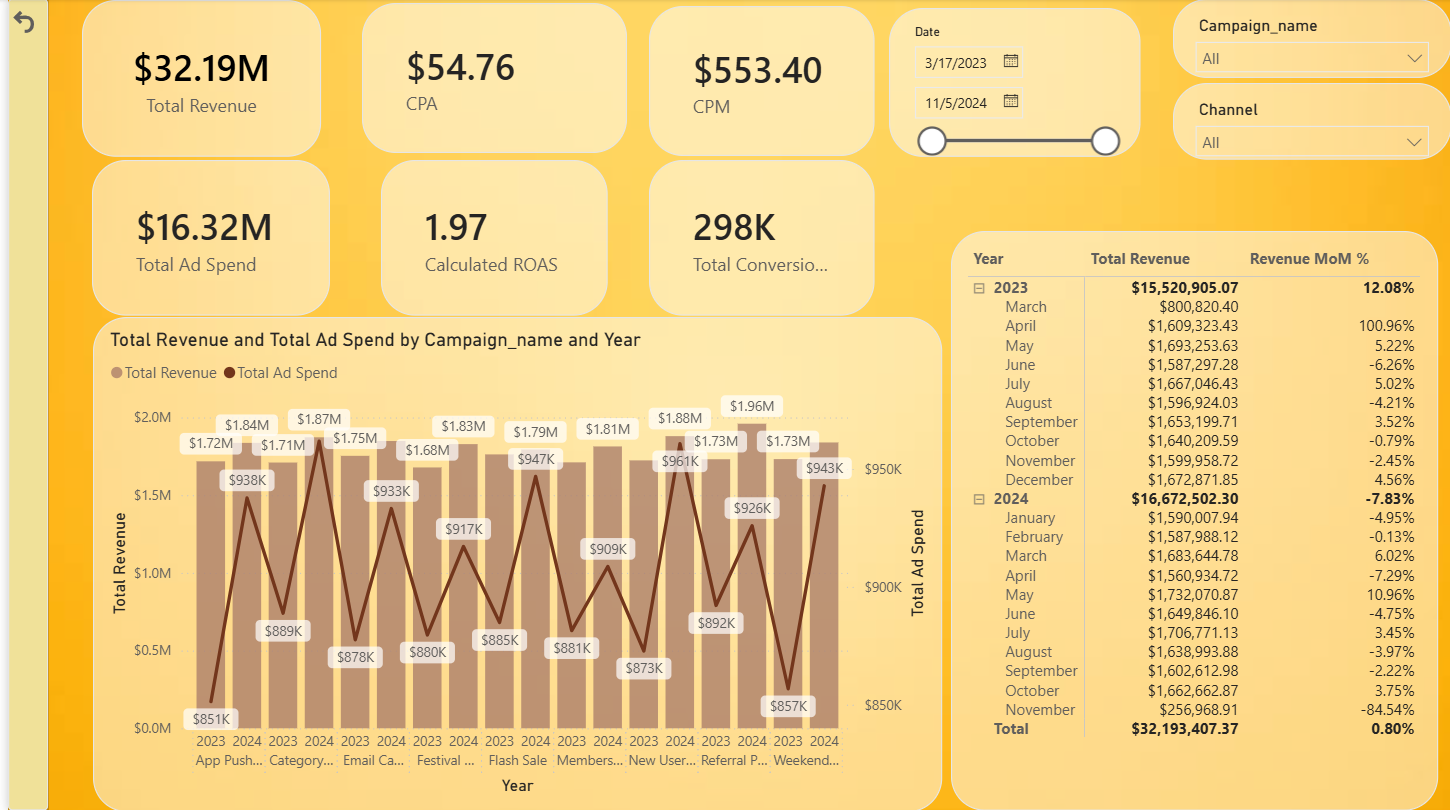

Layout of this report page (visuals, bound fields, positions):
{"tool":"powerbi","page":{"name":"Executive Summary","canvas":[1280,720],"ordinal":0},"visuals":[{"type":"cardVisual","fields":{"Data":["Measure Table.Total Revenue"]},"box":[65.4,0.9,212.1,139.2],"z":0},{"type":"cardVisual","fields":{"Data":["Measure Table.Cost Per Acquisation"]},"box":[313.9,3.7,234.5,132.7],"z":1000},{"type":"cardVisual","fields":{"Data":["Measure Table.CPM"]},"box":[568.1,6.5,199.9,132.7],"z":2000},{"type":"slicer","fields":{"Values":["Fact_marketing_performance.Campaign_name"]},"box":[1032.9,0,247.1,70],"z":3000},{"type":"slicer","fields":{"Values":["Fact_marketing_performance.Channel"]},"box":[1033.3,74.7,246.7,68.2],"z":4000},{"type":"slicer","fields":{"Values":["Dim Calender.Date"]},"box":[781.1,8.4,223.3,131.7],"z":5000},{"type":"shape","box":[0,0,35.6,719.5],"z":6000},{"type":"actionButton","box":[0,0,28.4,39.9],"z":7000},{"type":"cardVisual","fields":{"Data":["Measure Table.Total Ad Spend"]},"box":[74.7,142.9,211.2,138.3],"z":8000},{"type":"cardVisual","fields":{"Data":["Measure Table.Calculated ROAS"]},"box":[330.7,142.9,200.9,138.3],"z":9000},{"type":"cardVisual","fields":{"Data":["Measure Table.Total Conversions"]},"box":[568.1,142.9,199.9,138.3],"z":10000},{"type":"pivotTable","fields":{"Rows":["Dim Calender.Date.Variation.Date Hierarchy.Year","Dim Calender.Date.Variation.Date Hierarchy.Month"],"Values":["Measure Table.Total Revenue","Measure Table.Revenue MoM %"]},"box":[836.2,205.5,431.6,513.9],"z":11000},{"type":"lineClusteredColumnComboChart","fields":{"Category":["Fact_marketing_performance.Campaign_name","Dim Calender.Date.Variation.Date Hierarchy.Year","Dim Calender.Date.Variation.Date Hierarchy.Quarter","Dim Calender.Date.Variation.Date Hierarchy.Month","Dim Calender.Date.Variation.Date Hierarchy.Day"],"Y":["Measure Table.Total Revenue"],"Y2":["Measure Table.Total Ad Spend"]},"box":[75,281.6,753,439],"z":12000}]}

Visuals, with their boxes in screenshot pixels (x1, y1, x2, y2), scaled from the page's 1280x720 canvas onto the 1450x810 screenshot:
cardVisual - Measure Table.Total Revenue: [74, 1, 314, 158]
cardVisual - Measure Table.Cost Per Acquisation: [356, 4, 621, 153]
cardVisual - Measure Table.CPM: [644, 7, 870, 157]
slicer - Fact_marketing_performance.Campaign_name: [1170, 0, 1449, 79]
slicer - Fact_marketing_performance.Channel: [1171, 84, 1449, 161]
slicer - Dim Calender.Date: [885, 9, 1138, 158]
shape: [0, 0, 40, 809]
actionButton: [0, 0, 32, 45]
cardVisual - Measure Table.Total Ad Spend: [85, 161, 324, 316]
cardVisual - Measure Table.Calculated ROAS: [375, 161, 602, 316]
cardVisual - Measure Table.Total Conversions: [644, 161, 870, 316]
pivotTable - Dim Calender.Date.Variation.Date Hierarchy.Year x Dim Calender.Date.Variation.Date Hierarchy.Month: [947, 231, 1436, 809]
lineClusteredColumnComboChart - Fact_marketing_performance.Campaign_name x Dim Calender.Date.Variation.Date Hierarchy.Year: [85, 317, 938, 809]
